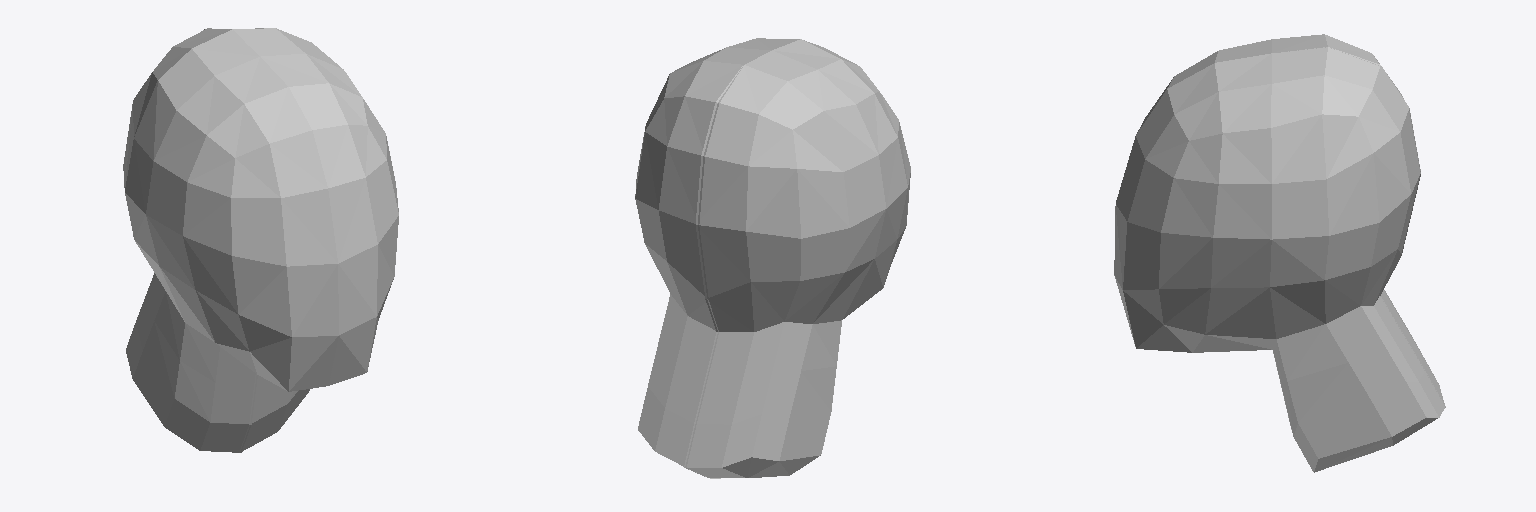
File: blueprints.obj
3 views of the same model, side by side, from view 1: azimuth 30°, elevation 25°; view 2: azimuth 150°, elevation 25°; view 3: azimuth 270°, elevation 25° (orthographic).
Visible parts, largest first — view 1: Cube_Cube.001; view 2: Cube_Cube.001; view 3: Cube_Cube.001.
Boxes of the visible parts, x1,y1,x2,y2 form: Cube_Cube.001: [123, 28, 398, 452]; Cube_Cube.001: [635, 38, 910, 478]; Cube_Cube.001: [1114, 34, 1445, 472].
Size of the model in its own units: 1.58 by 2.76 by 1.98.